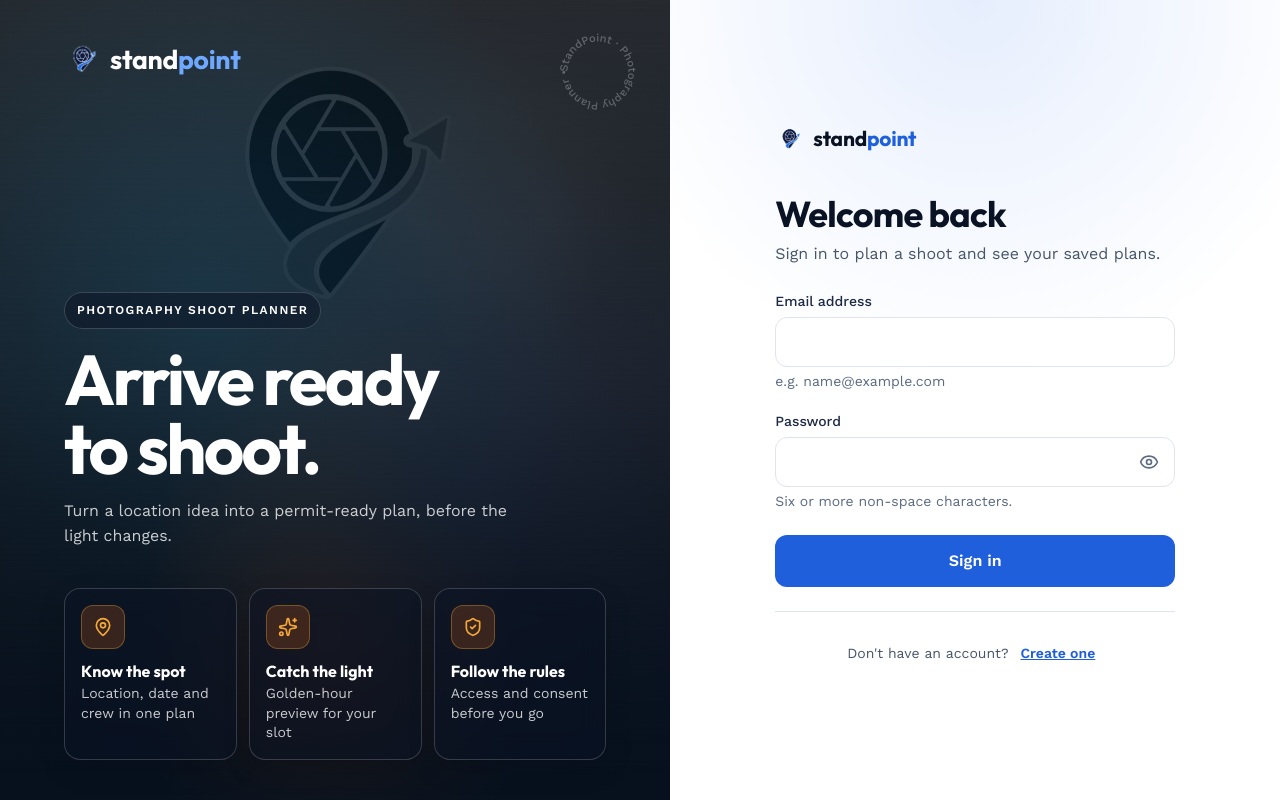
Scenario: LoginScreen › shows password error after blur with empty value
Click the password field labelled "Password". click: [975, 462]
box: [775, 437, 1175, 487]
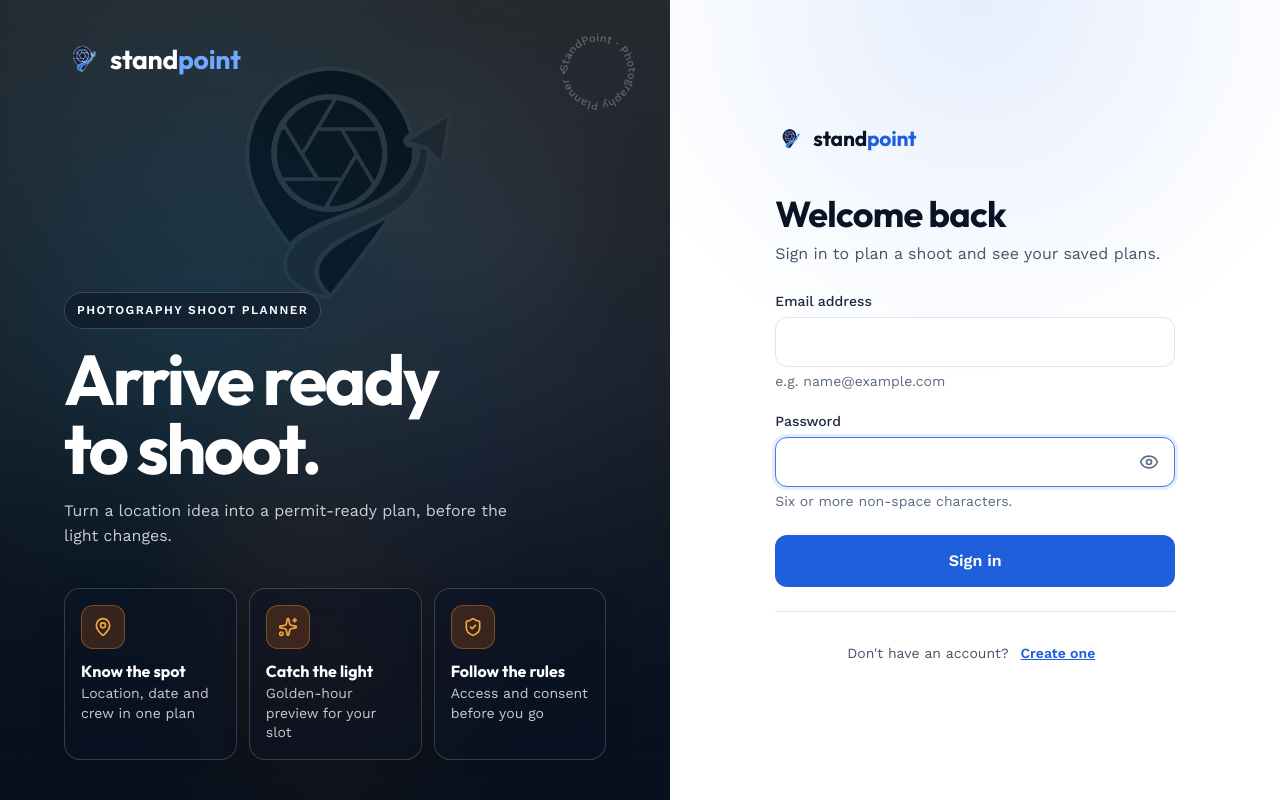
Press Tab
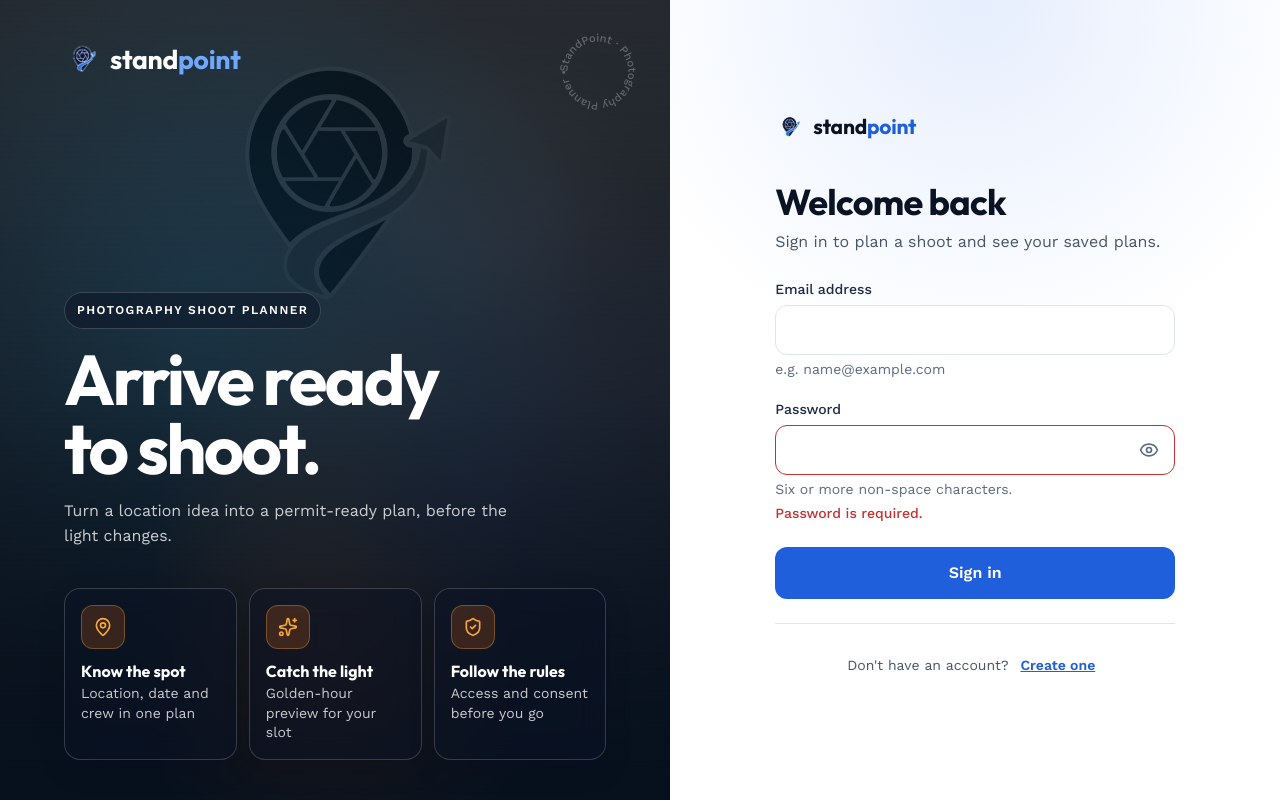
Expected: the message shows "Password is required", [775, 505, 923, 521]
